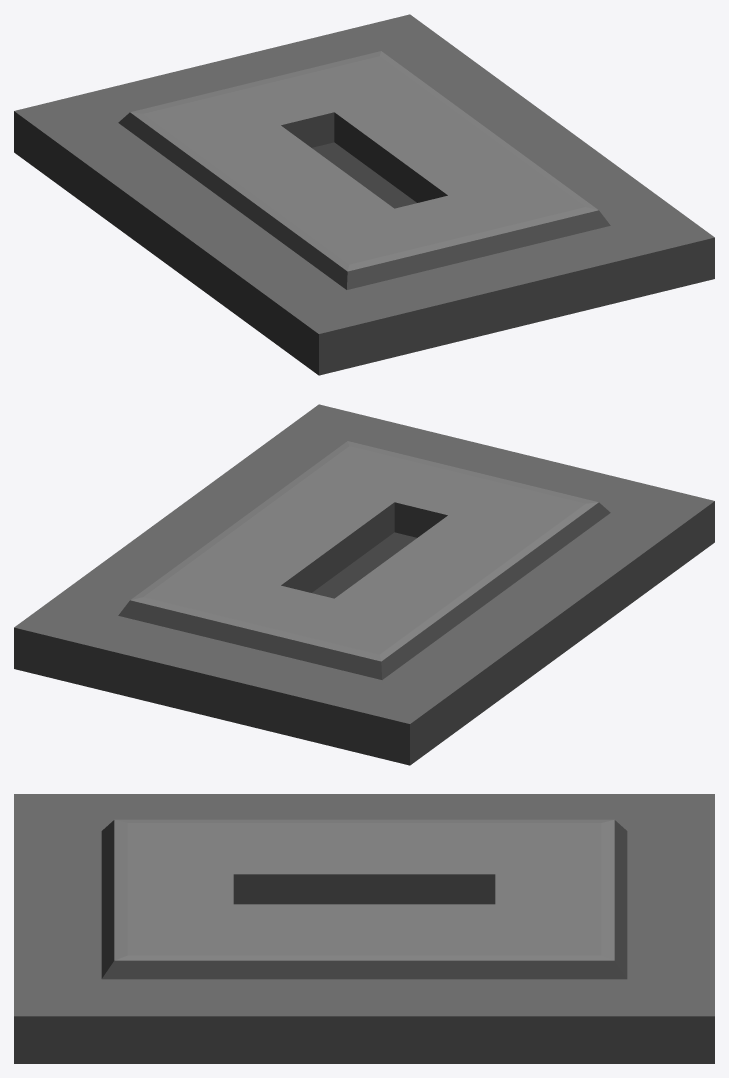
Rendered from lever_base_type_00.fbx.
The picture shows the model from 3 angles, top to bottom: view 1: azimuth 30°, elevation 25°; view 2: azimuth 150°, elevation 25°; view 3: azimuth 270°, elevation 25°; orthographic projection. The views are drawn at different scales.
Visible parts, largest first — view 1: lever_base_type_00; view 2: lever_base_type_00; view 3: lever_base_type_00.
Part boxes in pixels (left/top/right/bottom): lever_base_type_00: left=14, top=14, right=714, bottom=375; lever_base_type_00: left=14, top=404, right=714, bottom=765; lever_base_type_00: left=14, top=794, right=714, bottom=1063.
Size of the model in its own units: 37.8 by 5.04 by 50.4.
